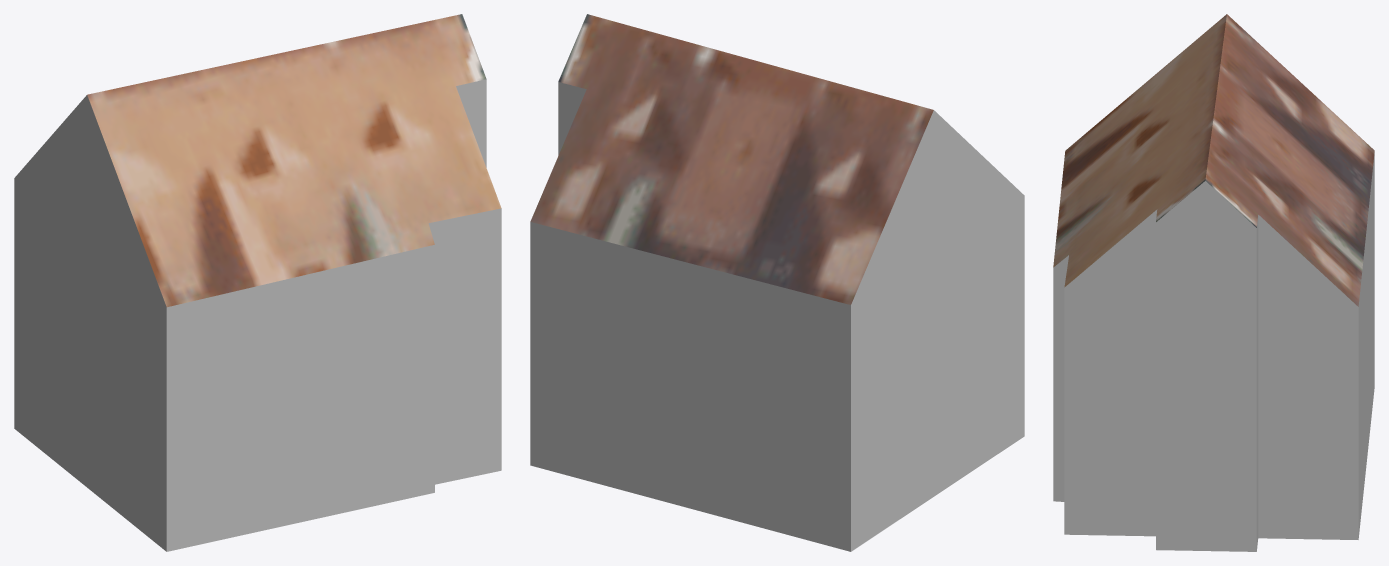
Rendered from DEBW_0010007Tvkz.gltf.
3 renders of one model, left to right at view 1: azimuth 30°, elevation 25°; view 2: azimuth 150°, elevation 25°; view 3: azimuth 270°, elevation 25°, orthographic. The views are drawn at different scales.
Parts seen in each view (by area): view 1: Z_UP; view 2: Z_UP; view 3: Z_UP.
Boxes of the visible parts, x1,y1,x2,y2 form: Z_UP: (14,14,501,551); Z_UP: (530,14,1024,551); Z_UP: (1053,14,1374,551).
Bounding box in the file's own units: 19.51 × 19.71 × 15.51.
2 materials, 1 textured.
